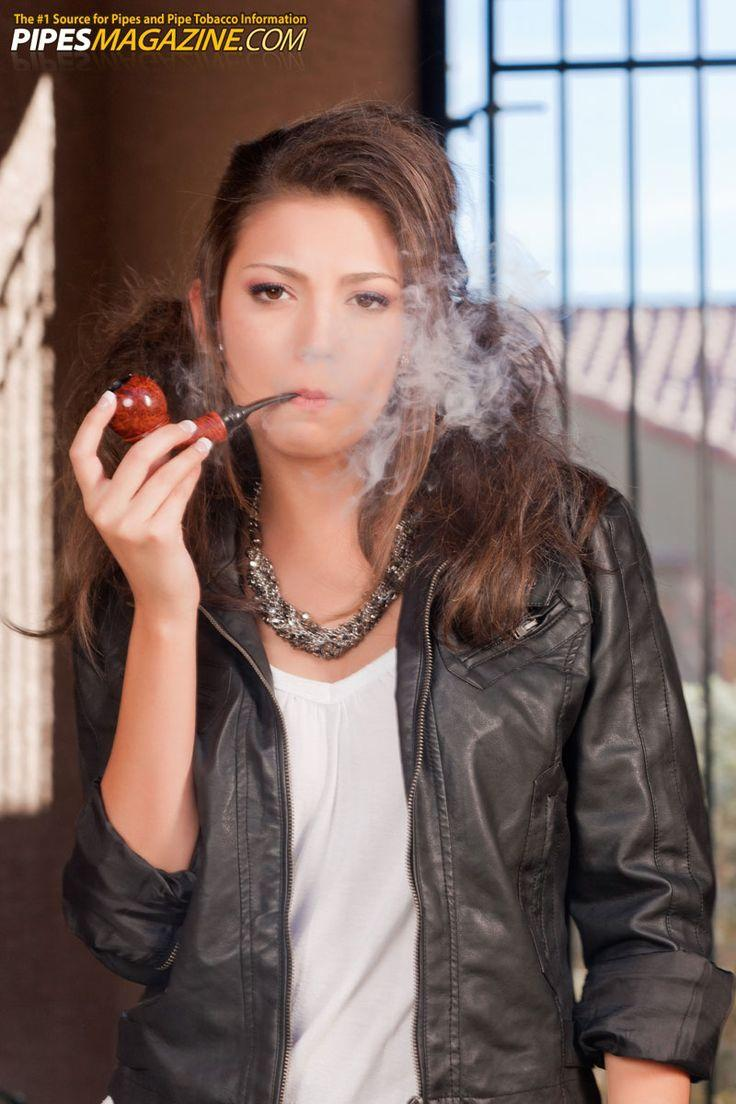trubka: (106, 372, 299, 456)
